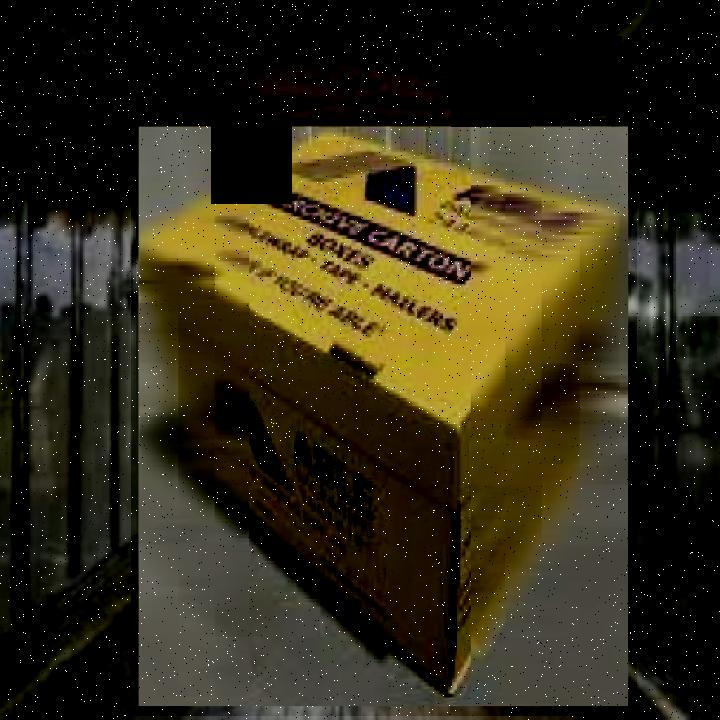box: (131, 118, 637, 716)
